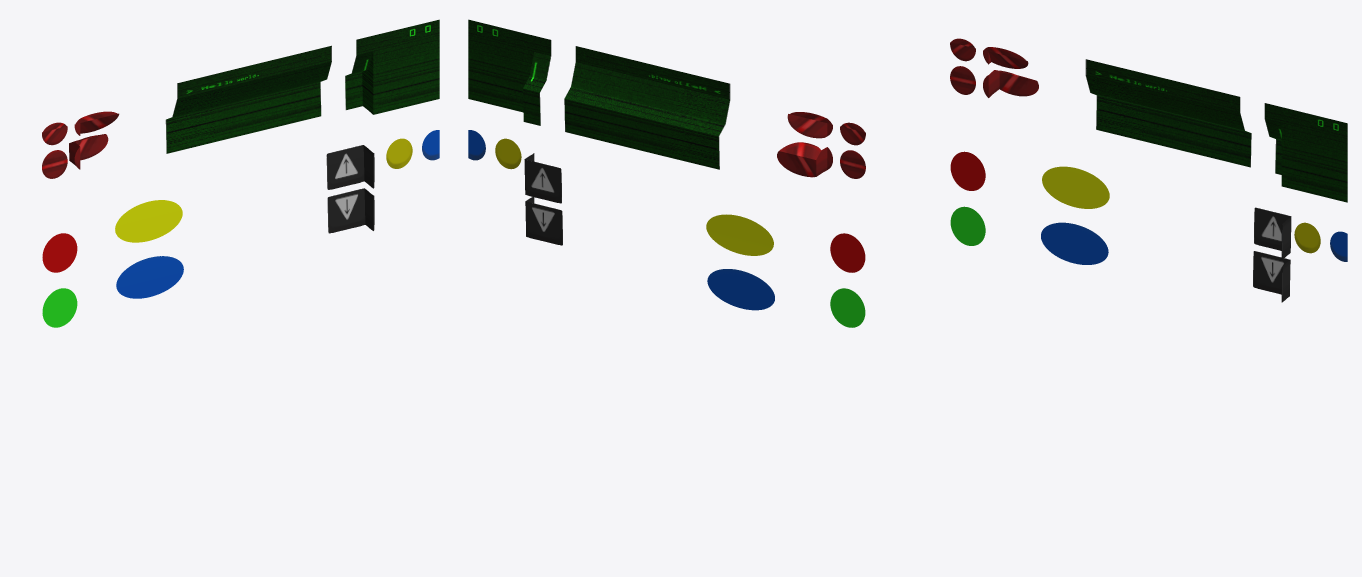
Rendered from Wall_A.fbx.
3 renders of one model, left to right at view 1: azimuth 30°, elevation 25°; view 2: azimuth 150°, elevation 25°; view 3: azimuth 330°, elevation 25°, orthographic.
Parts seen in each view (by area): view 1: Wall2; view 2: Wall2; view 3: Wall2.
Boxes of the visible parts, bbox=[...] form: Wall2: bbox=[42, 19, 439, 327]; Wall2: bbox=[468, 19, 865, 327]; Wall2: bbox=[950, 38, 1347, 302].
Size of the model in its own units: 400 by 400 by 19.44.
Materials: 1 (1 with a texture image).
